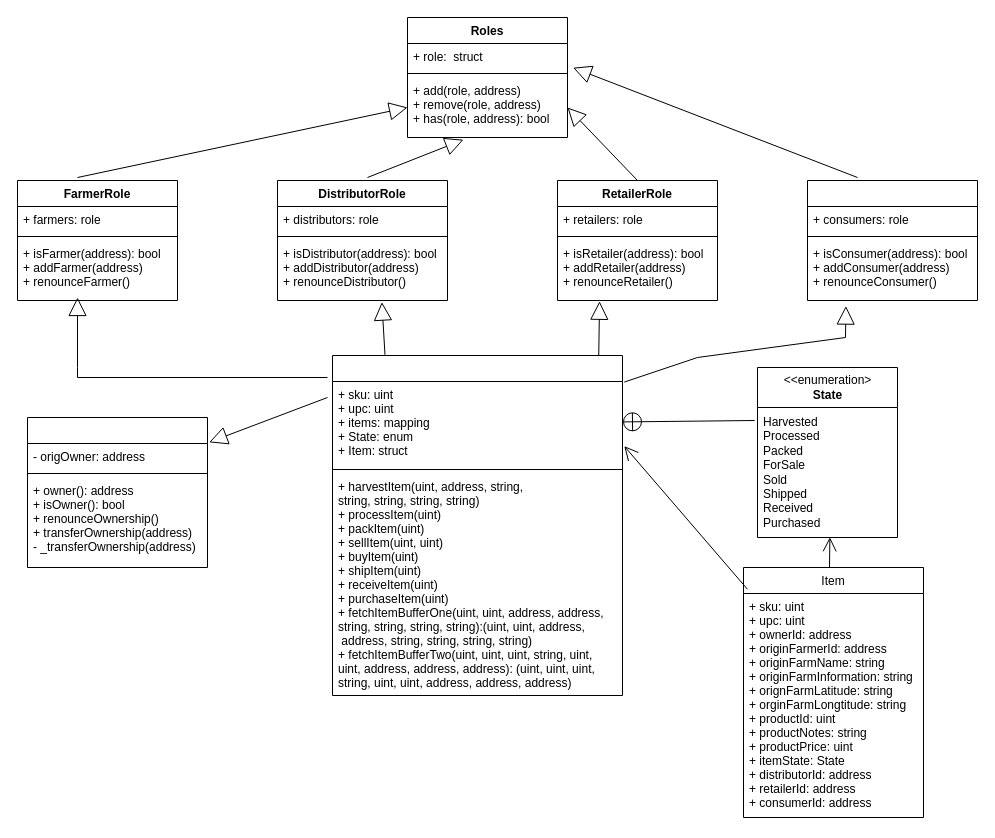
Image size: 995x838. Some labels were removed from this diagram. Each missing label, with the box of its shape:
ConsumerRole: (806, 180, 978, 300)
Ownable: (26, 416, 208, 568)
SupplyChain: (332, 354, 622, 696)
